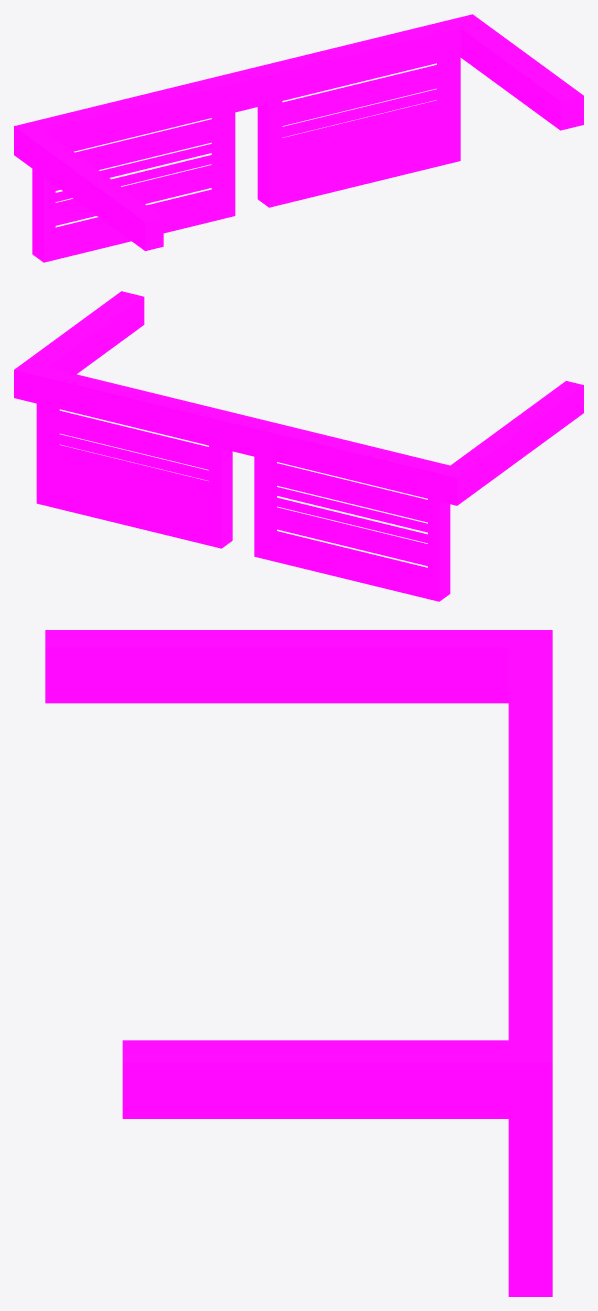
File: PinkGlasses.fbx
3 renders of one model, top to bottom at view 1: azimuth 30°, elevation 25°; view 2: azimuth 150°, elevation 25°; view 3: azimuth 270°, elevation 25°, orthographic. The views are drawn at different scales.
Parts seen in each view (by area): view 1: PinkGlasses; view 2: PinkGlasses; view 3: PinkGlasses.
Part boxes in pixels (x1,y1,x2,y2): PinkGlasses: [14, 14, 583, 262]; PinkGlasses: [14, 291, 583, 601]; PinkGlasses: [45, 630, 552, 1296].
Size of the model in its own units: 176 by 48.67 by 87.26.
